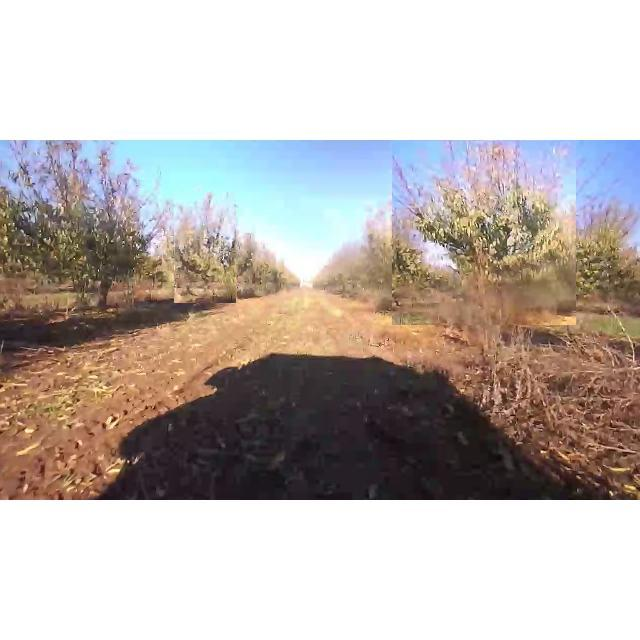direk: (392, 141, 576, 325), (0, 140, 172, 312), (174, 191, 236, 303)
